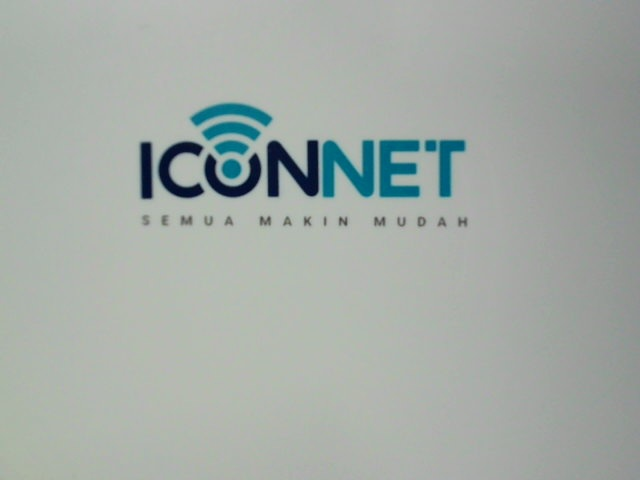BM_ICONNET: (117, 92, 490, 242)
